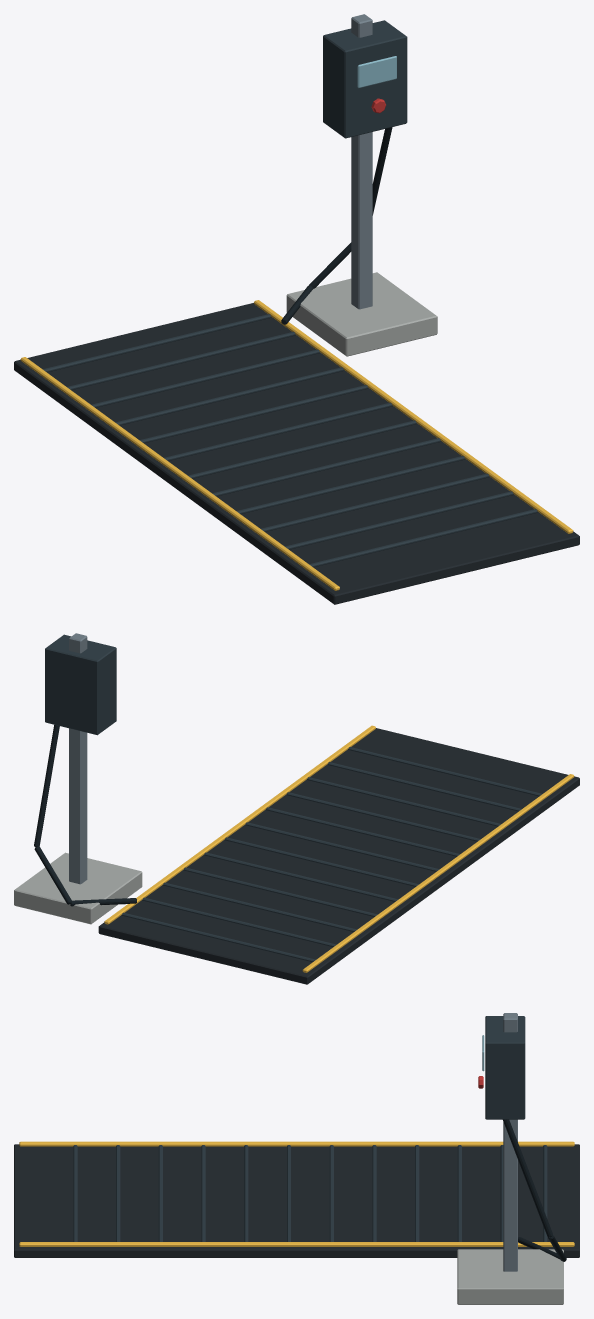
Rendered from b20_heated_walkway_mat_controller.glb.
The picture shows the model from 3 angles, top to bottom: view 1: azimuth 30°, elevation 25°; view 2: azimuth 150°, elevation 25°; view 3: azimuth 270°, elevation 25°; orthographic projection. The views are drawn at different scales.
Parts seen in each view (by area): view 1: b20_heated_walkway_mat_controller; view 2: b20_heated_walkway_mat_controller; view 3: b20_heated_walkway_mat_controller.
Boxes of the visible parts, x1,y1,x2,y2 form: b20_heated_walkway_mat_controller: [14, 14, 579, 604]; b20_heated_walkway_mat_controller: [14, 633, 579, 984]; b20_heated_walkway_mat_controller: [14, 1013, 579, 1304].
Size of the model in its own units: 1.36 by 1.12 by 2.12.
